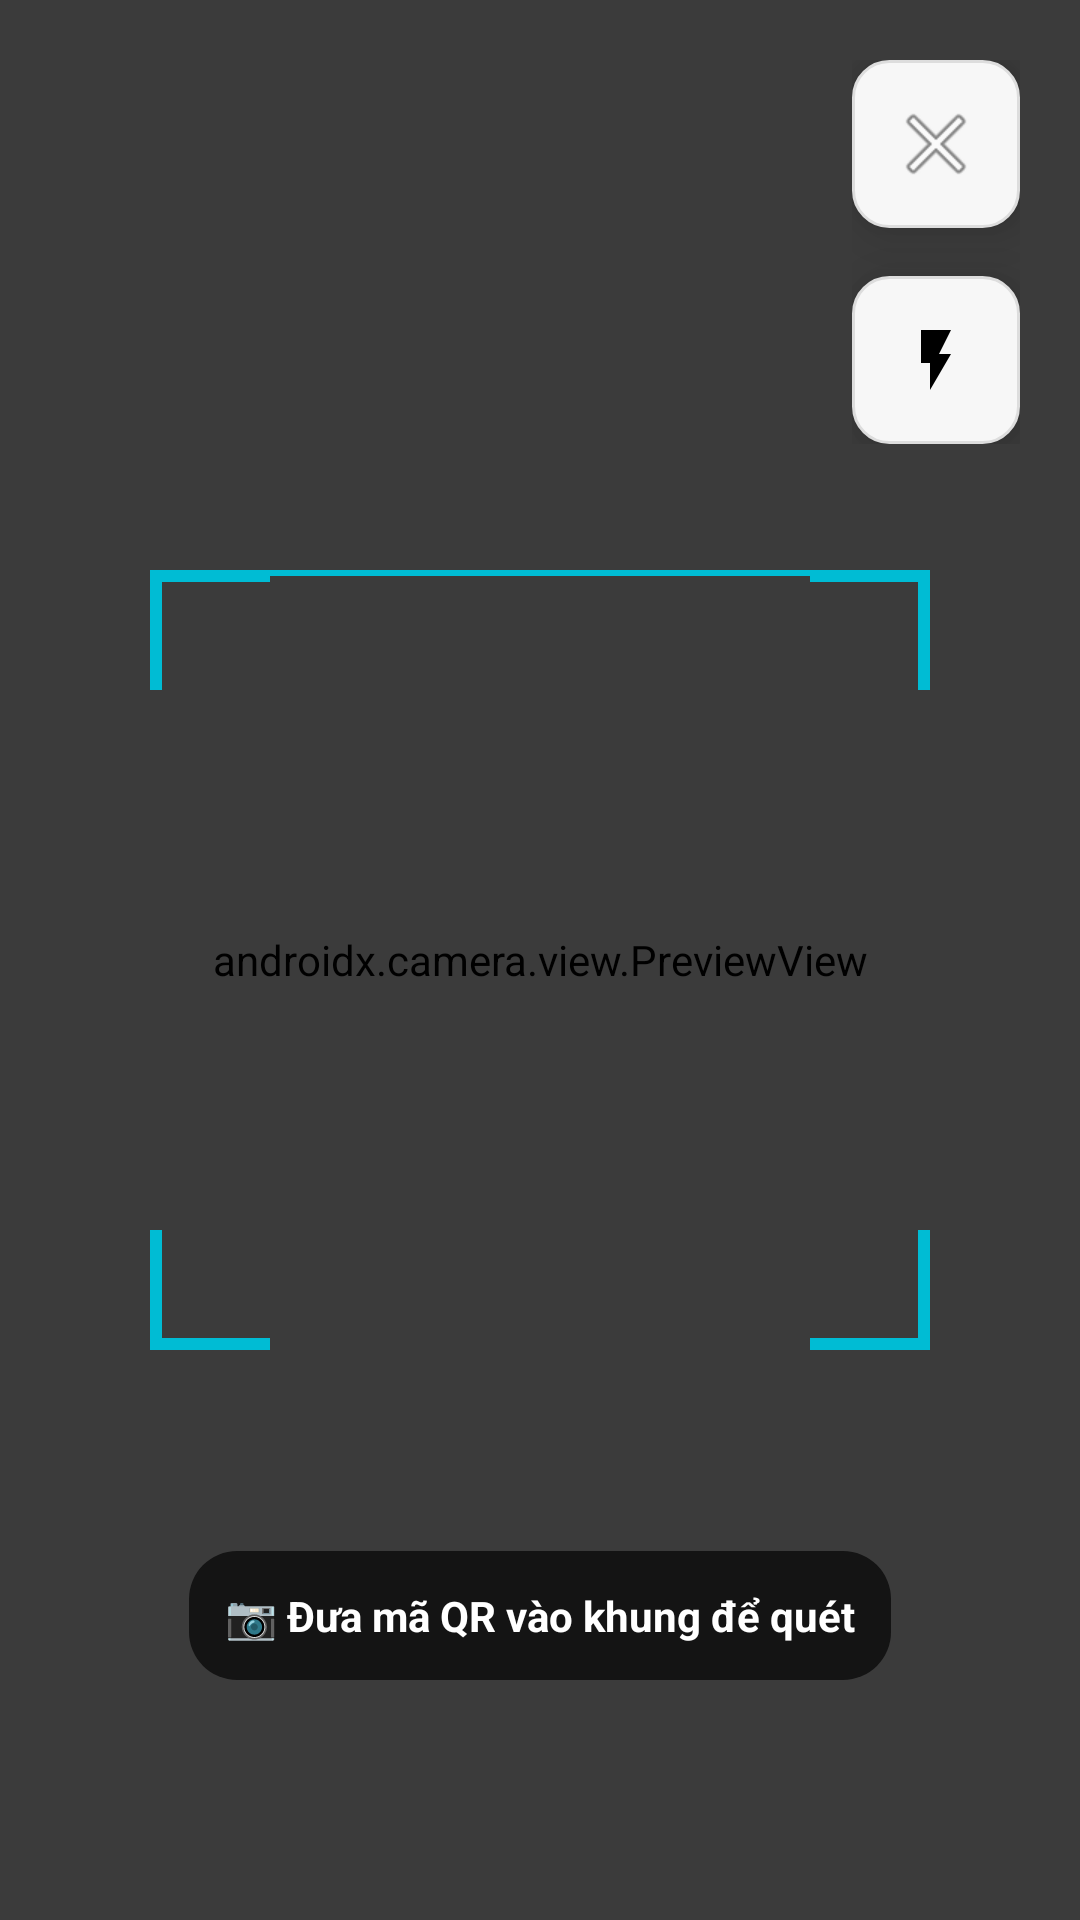

Named icons in this screenshot (1080 x 1920) and their centers, [x,y]:
Bật/Tắt Flash: [936,360]
Đóng Camera: [936,144]
